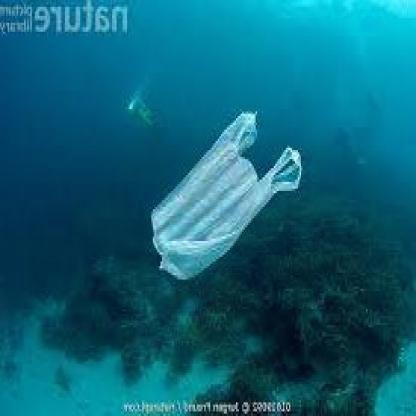pbag: (148, 109, 303, 284)
